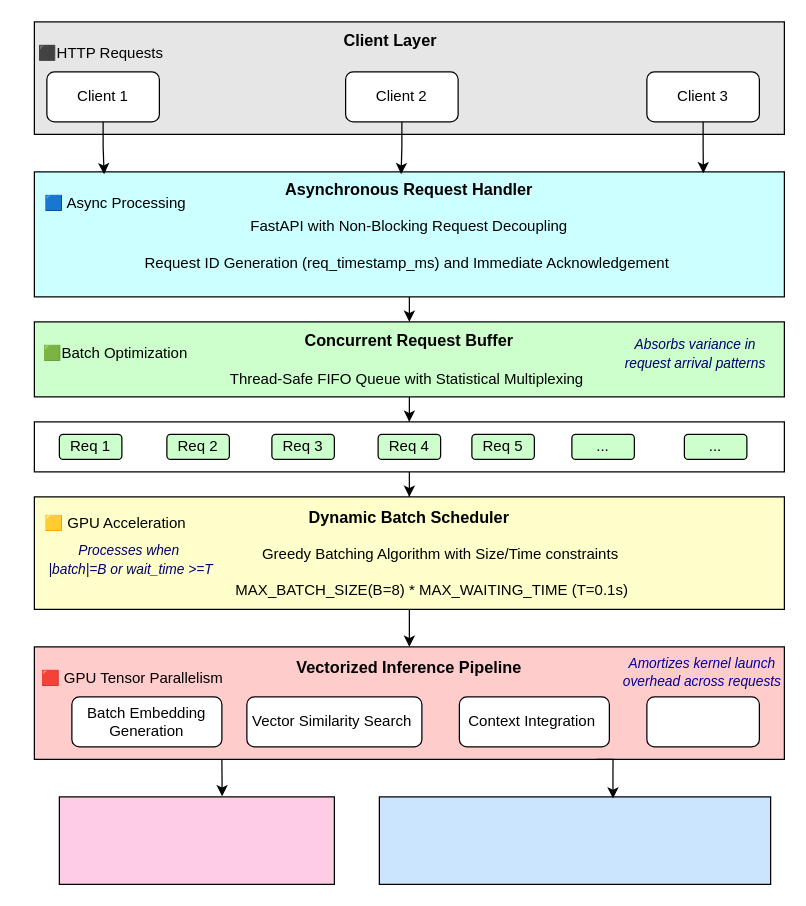
The diagram is 806 pixels wide and 906 high, and some of its shapes have lost their labels. The centre of each missing label's shape, as x and y in pixels:
LLM Interface: point 702,721
Performance Metrics Throughput * Latency (Mean, p95, p99) * Success Rate: point 574,840
Thread-Safe Result Storage Response Dictionary with Mutex Protection: point 196,840
